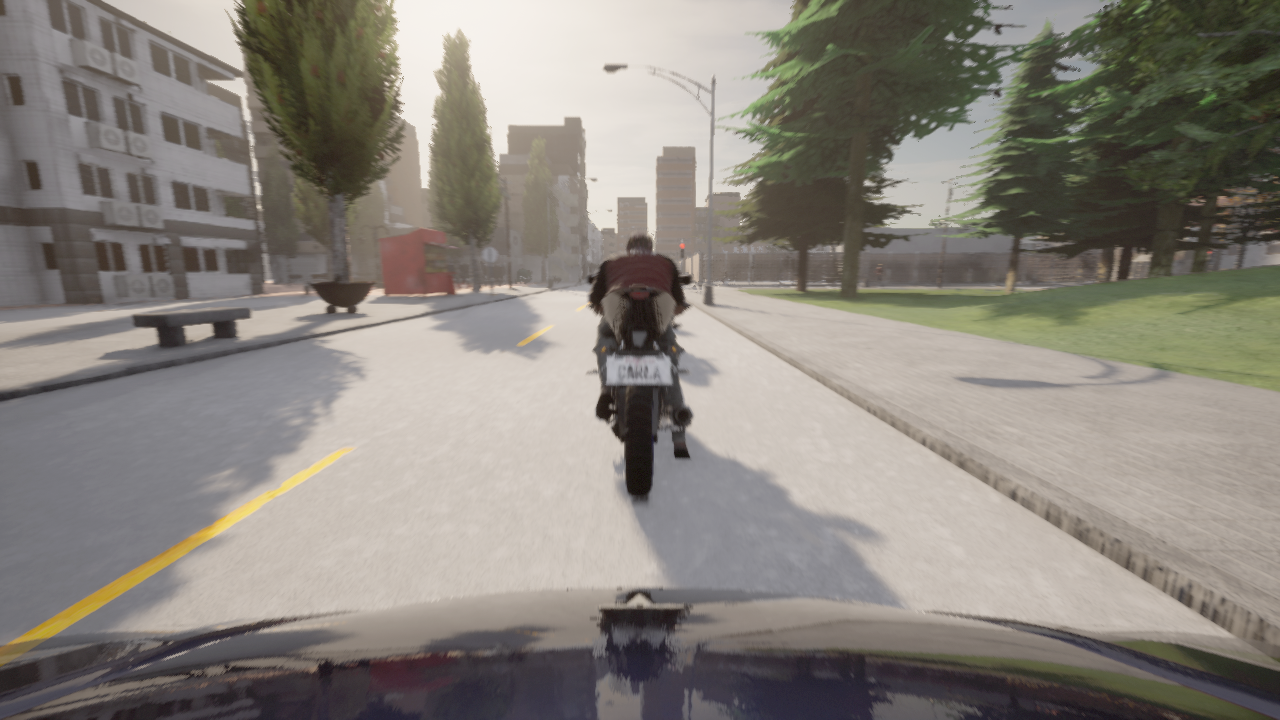cyclist: (0, 588, 1279, 719), (586, 274, 693, 495), (741, 272, 763, 279), (719, 268, 733, 278), (717, 278, 732, 286), (772, 271, 786, 279), (808, 269, 818, 279), (747, 273, 759, 279), (829, 271, 831, 272)
pedestrian: (873, 264, 885, 287)
